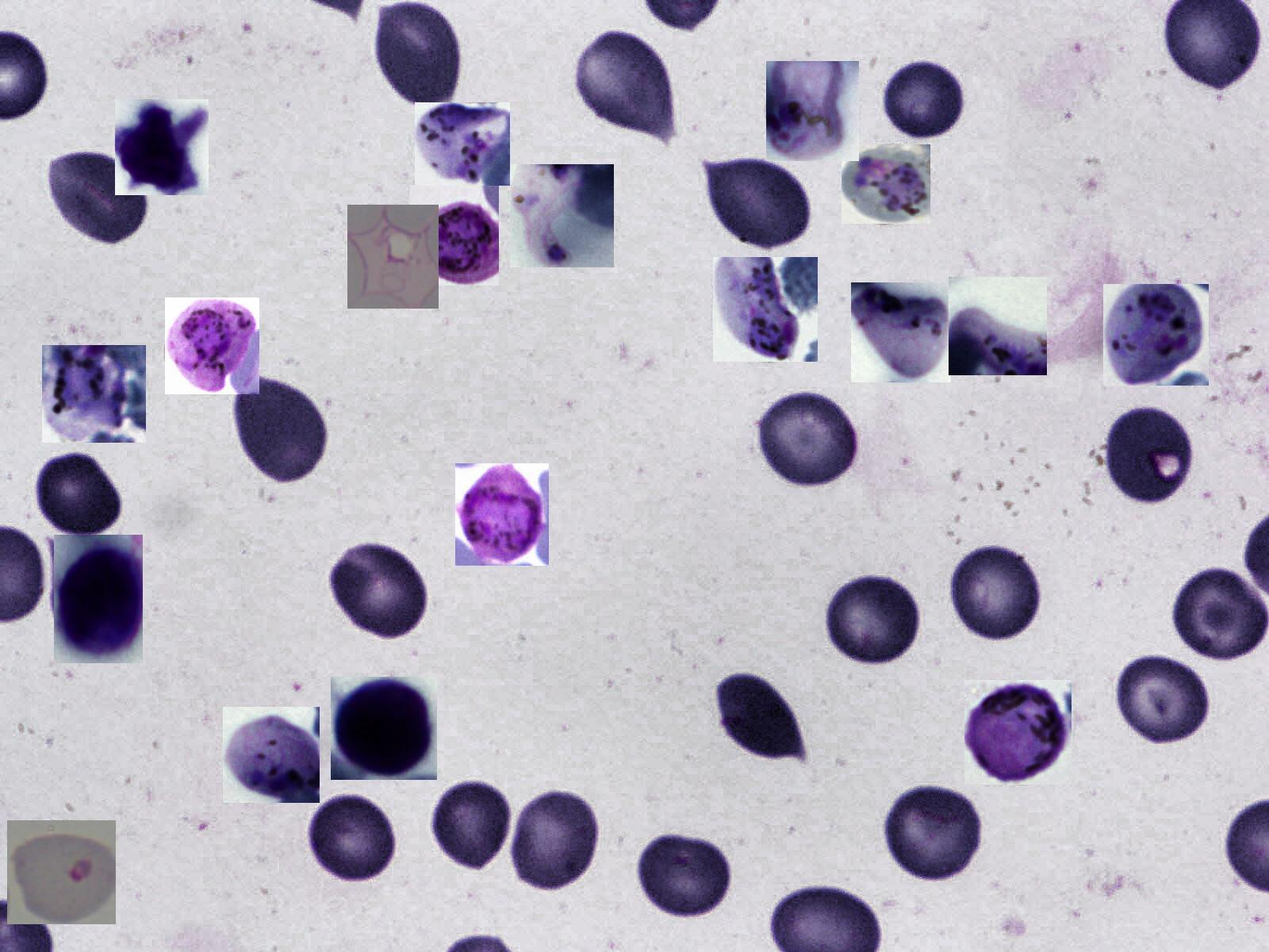Infected: (54, 535, 143, 663), (964, 680, 1072, 785), (7, 820, 116, 924), (713, 257, 818, 362), (331, 677, 437, 780), (1103, 284, 1209, 386), (510, 164, 614, 267), (42, 345, 146, 443), (851, 282, 951, 382), (455, 463, 549, 566), (949, 277, 1047, 375), (347, 205, 439, 309), (223, 707, 320, 803), (766, 61, 859, 161), (165, 298, 259, 394), (115, 99, 209, 195), (410, 185, 499, 286), (415, 102, 510, 186), (842, 144, 930, 224)
Uninfected: (231, 372, 332, 487), (576, 29, 681, 136), (325, 539, 432, 643), (704, 152, 815, 251), (508, 783, 605, 895), (757, 386, 864, 487), (370, 0, 466, 112), (44, 150, 152, 247), (945, 542, 1045, 645), (1101, 404, 1198, 509), (883, 784, 986, 881), (824, 570, 926, 667), (1172, 567, 1268, 666), (713, 667, 808, 762), (306, 789, 401, 884), (31, 451, 128, 543), (1117, 654, 1210, 749), (638, 834, 738, 921), (431, 774, 512, 870), (882, 56, 968, 138)
